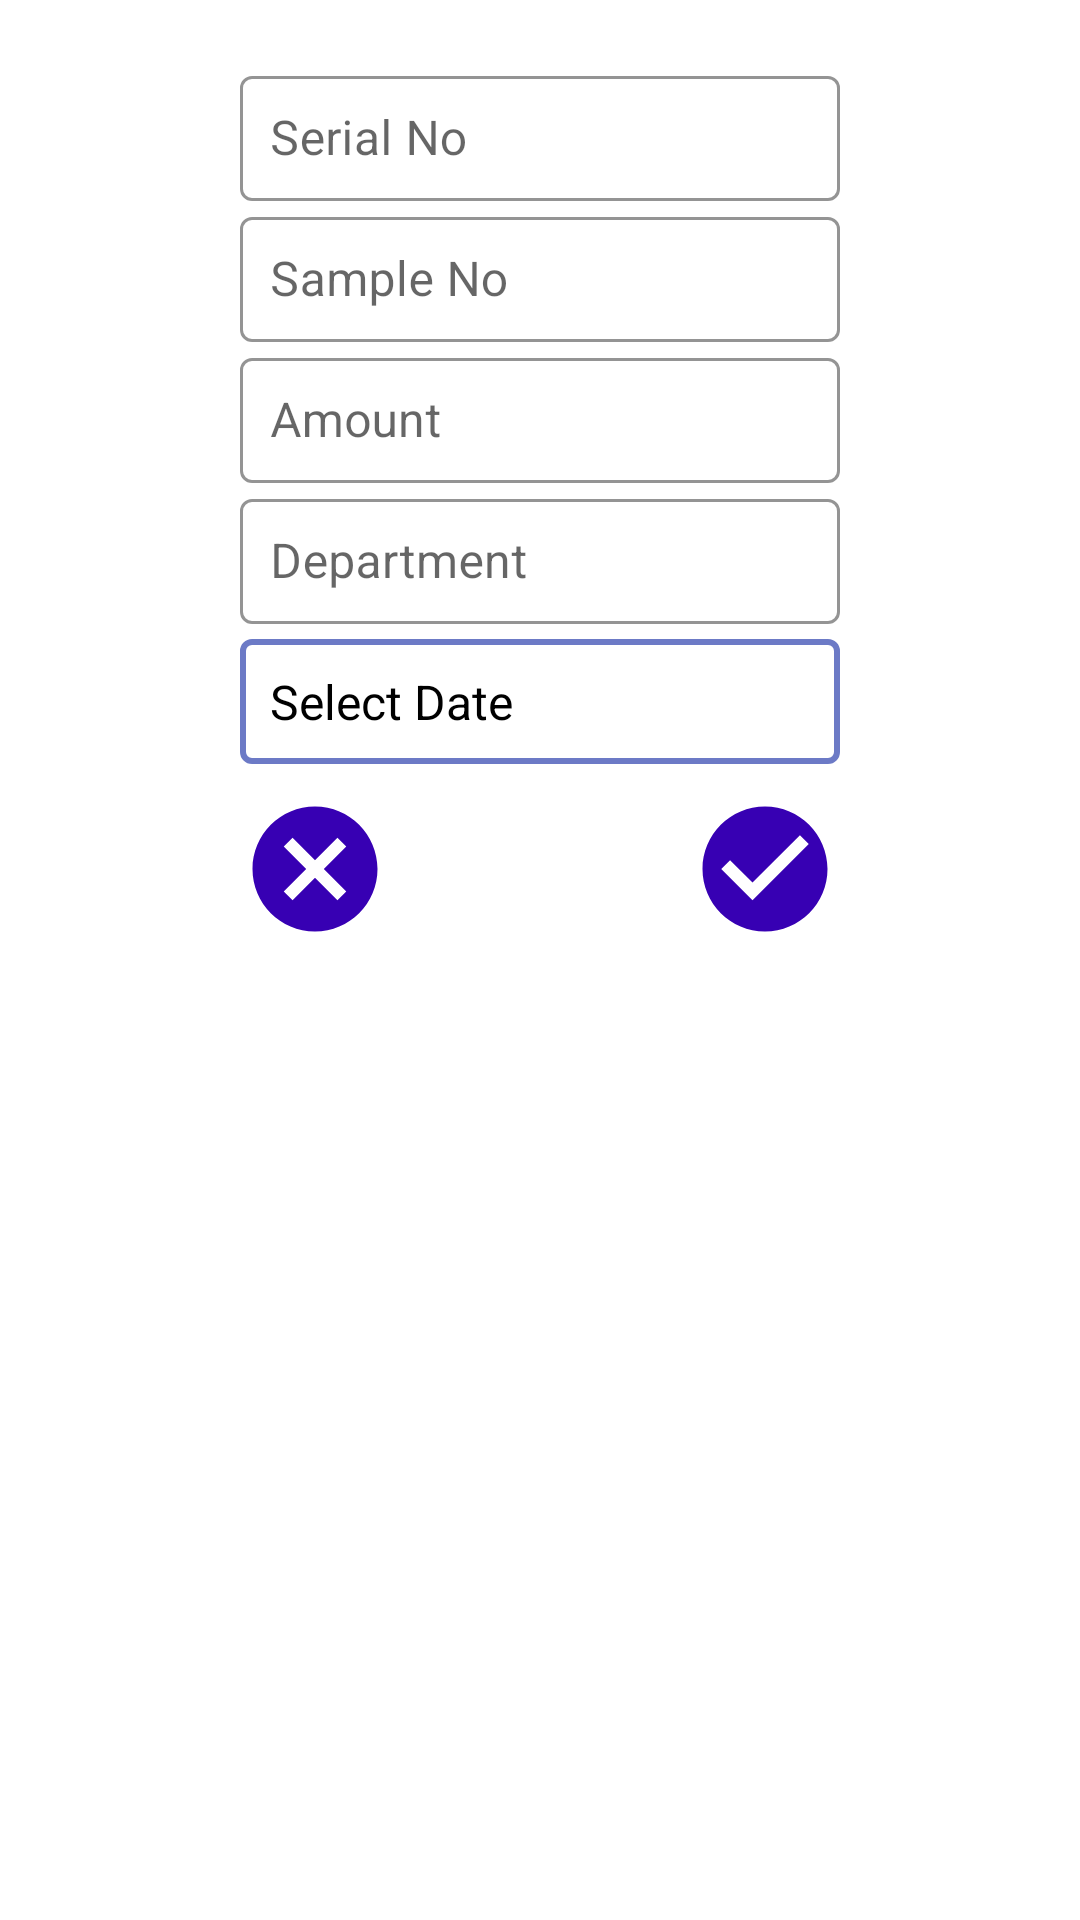

Screen size 1080w x 1920h. Icon name, then its center in pixels as point (x, y):
cancel: point (315, 869)
circle check: point (765, 869)
